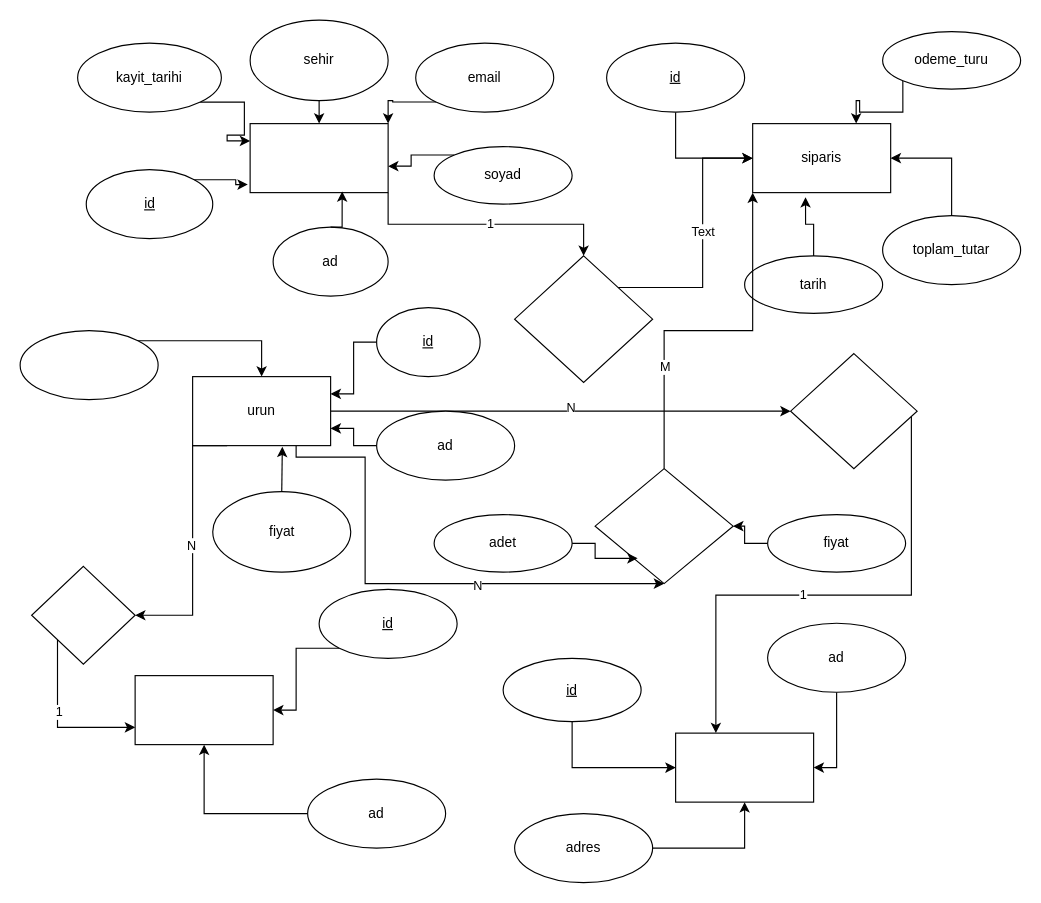
The diagram is 1041 pixels wide and 903 high, and some of its shapes have lost their labels. Here are the shapes that lost their labels. From the top down, the centre of each, then its label:
(x=318, y=157): musteri
(x=583, y=318): VEREBİLİR
(x=88, y=364): stok
(x=853, y=410): AİTTİR
(x=663, y=525): OLABİLİR
(x=82, y=614): VARDIR
(x=203, y=709): kategori
(x=744, y=767): satici
